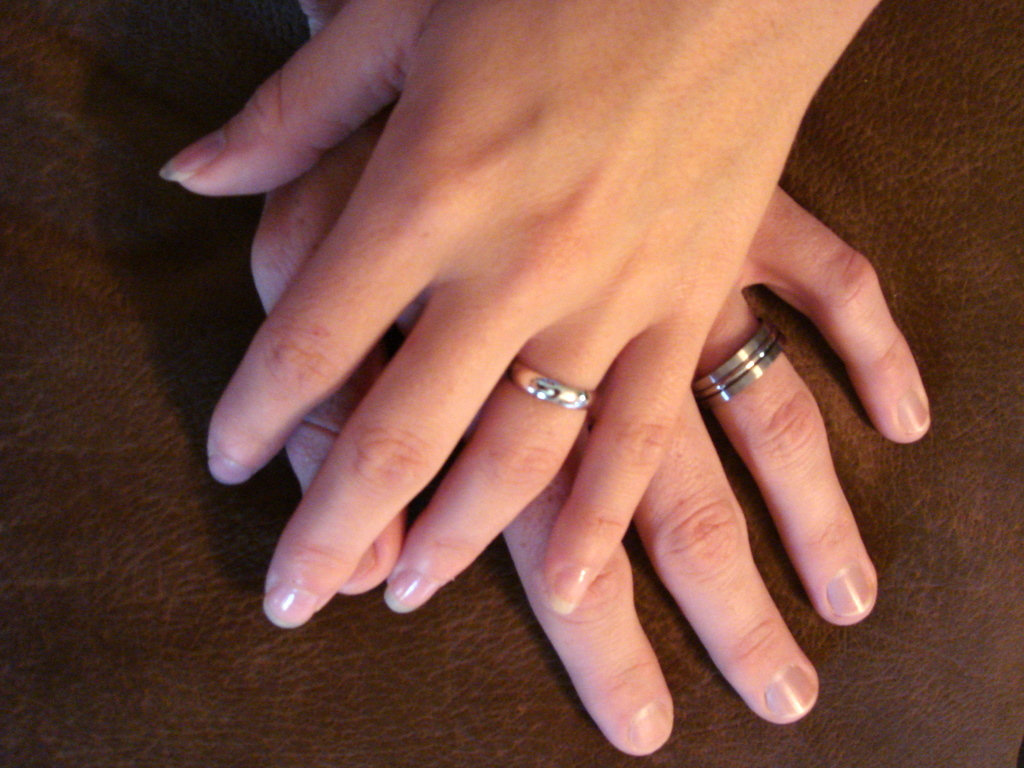Human_hand: (250, 0, 934, 759), (158, 0, 882, 629)
